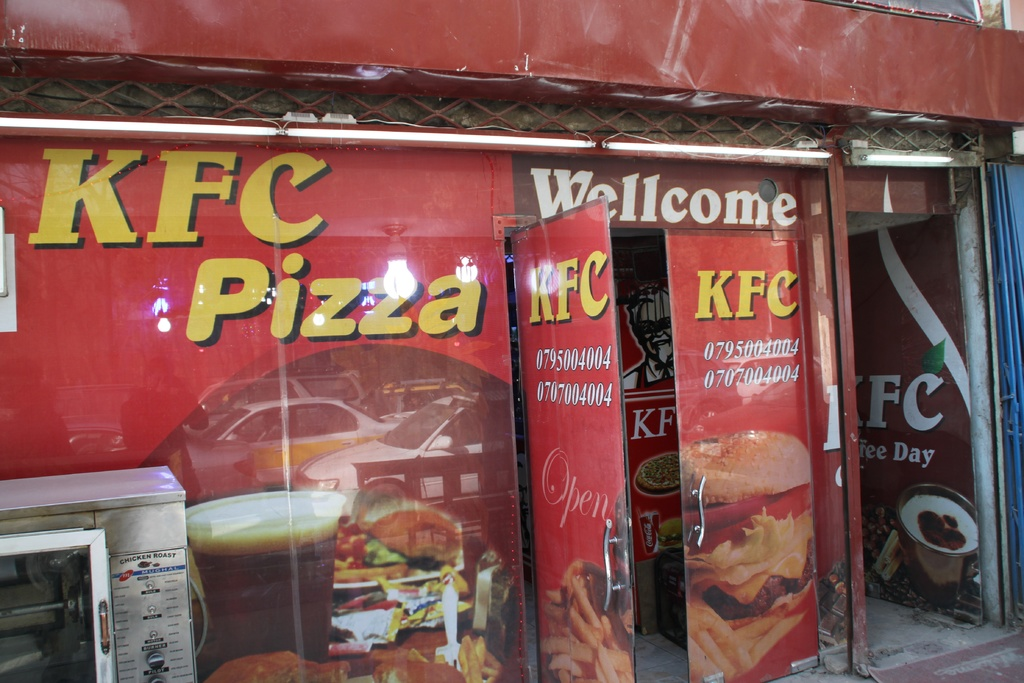person: (120, 353, 210, 503)
